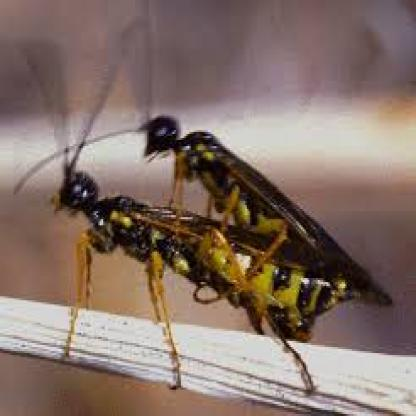sawfly: (29, 109, 363, 396), (136, 90, 398, 318)
